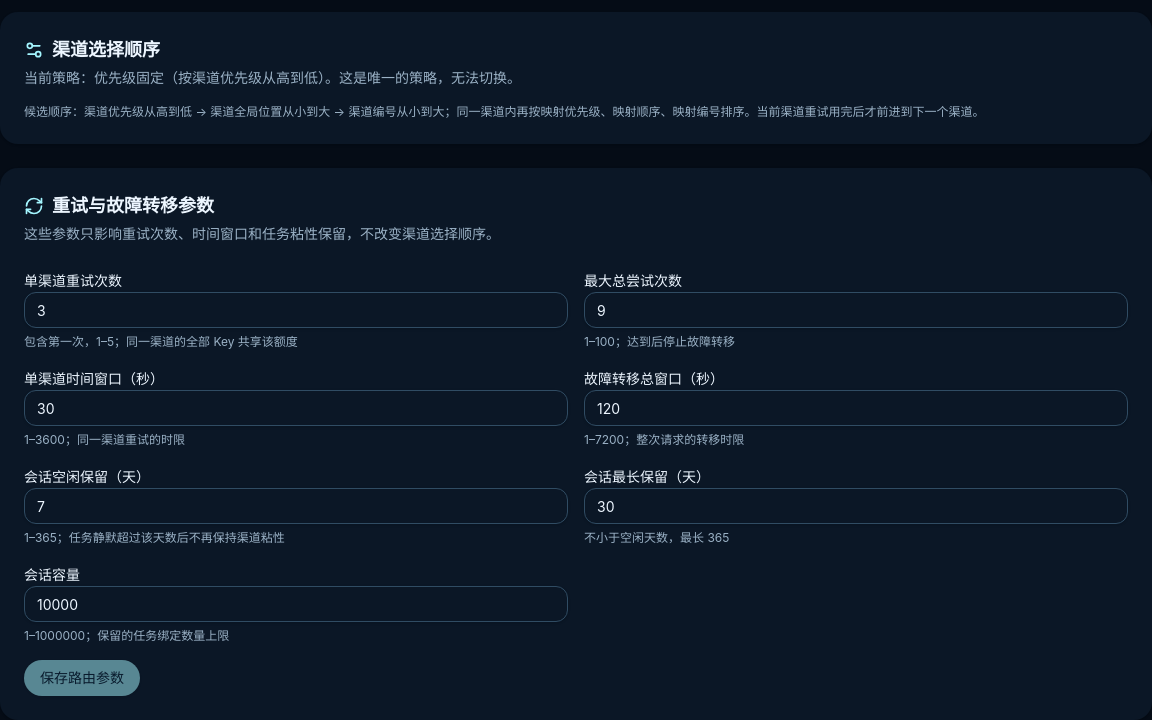
Scenario: routing settings › surfaces the server message when a parameter is rejected
This screenshot has width=1152, height=720.
(page scrolled)
Check: the number field labelled "单渠道重试次数" is shown, box [24, 292, 568, 328]
Replace the text in the number field labelled "会话容量" with "0". click: (296, 604)
box: [24, 586, 568, 622]
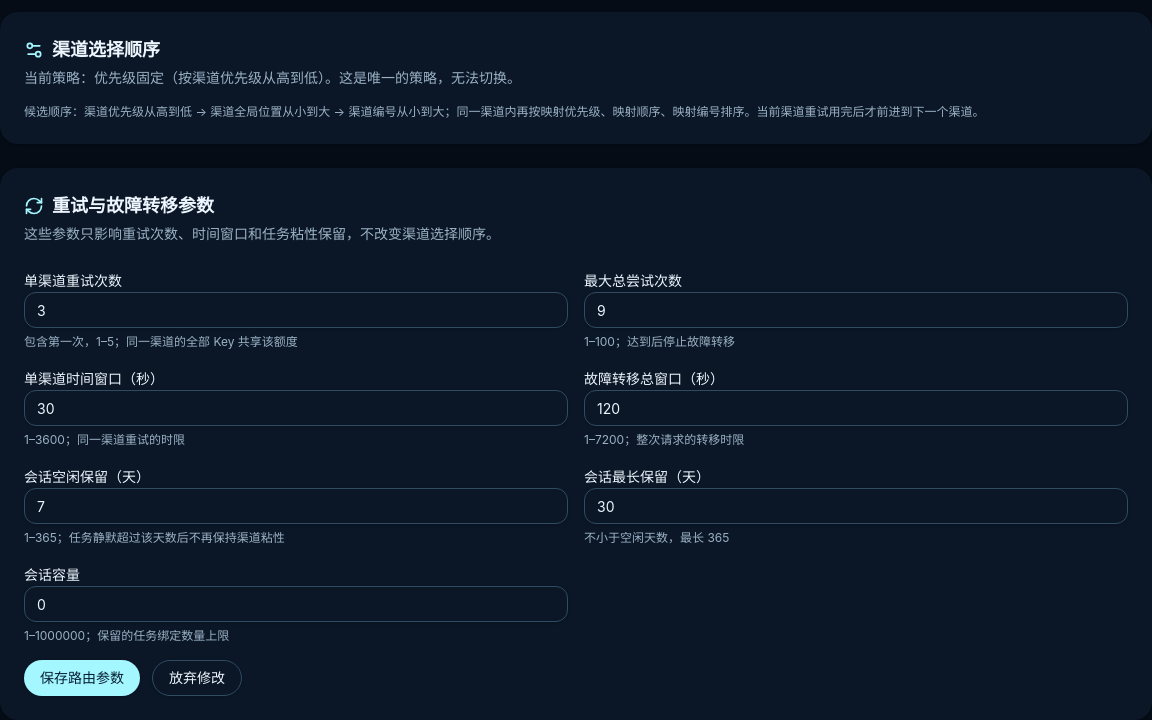
Click the button "保存路由参数". click: (82, 678)
box: [24, 660, 140, 696]
(page scrolled)
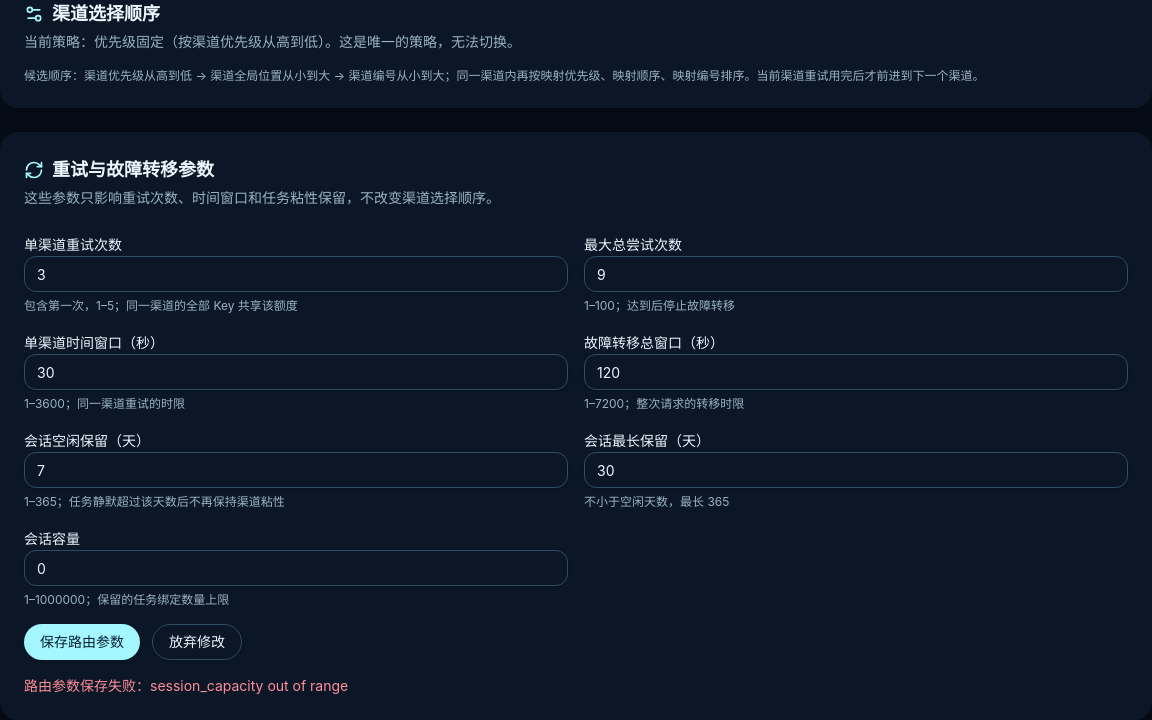
Check: the message shows "session_capacity out of range", box [150, 677, 348, 694]
